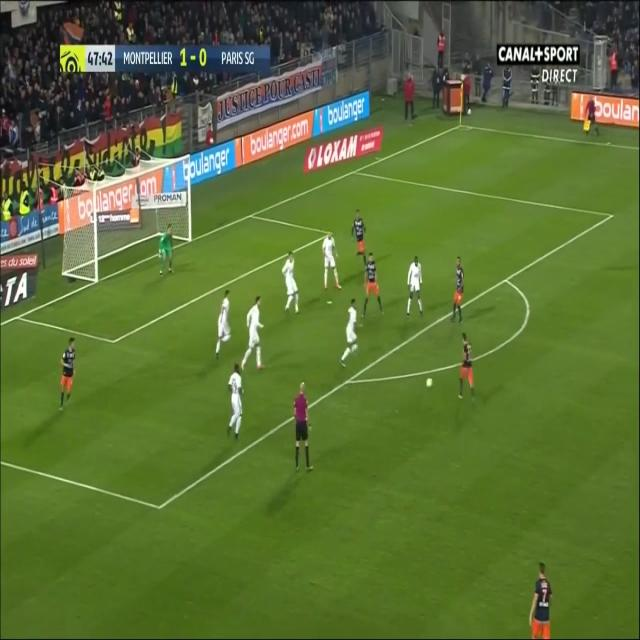Ball: (424, 372, 436, 393)
Goalkeeper: (157, 220, 177, 282)
Player: (240, 292, 268, 373), (526, 560, 554, 640), (361, 249, 386, 323), (320, 227, 346, 295), (338, 297, 361, 370), (213, 288, 235, 362), (225, 361, 245, 442), (57, 334, 77, 414), (447, 252, 467, 326), (457, 331, 477, 405), (404, 253, 426, 319), (281, 250, 302, 317), (350, 210, 368, 263)
Referee: (291, 378, 316, 476), (583, 97, 602, 140)
